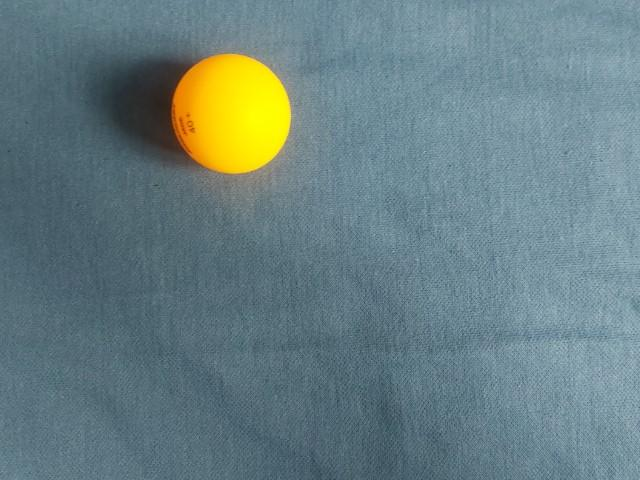oball: (341, 300, 476, 431)
